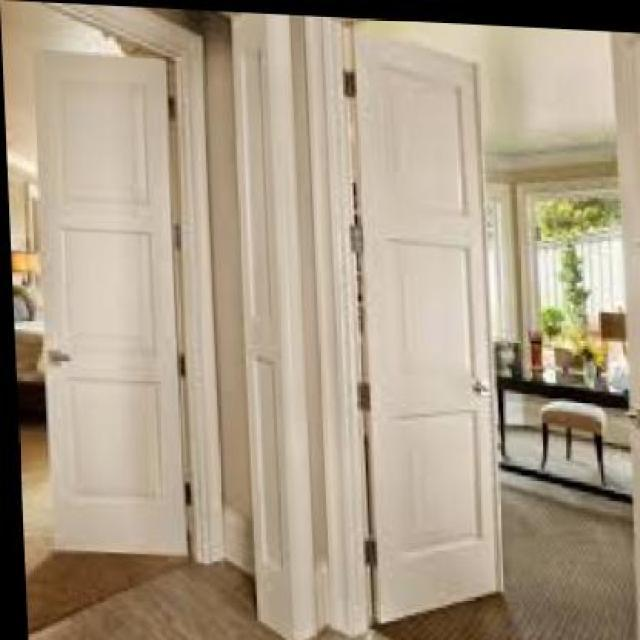door: (342, 27, 505, 639), (31, 40, 188, 558)
